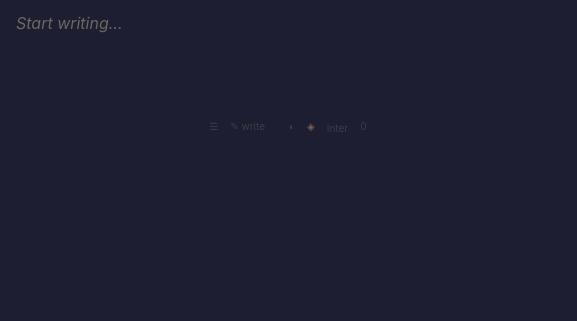
Test case: Page › shows conversation messages when present
What coordinates should you click on to do the following:
click the button with test id "mode-toggle"
I would click on:
 (248, 126)
Its box is [230, 118, 265, 134].
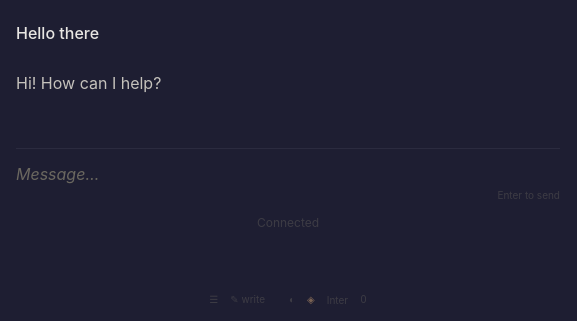
Check: the text "Hello there" is shown, box [16, 23, 99, 43]
Check: the text "Hi! How can I help?" is shown, box [16, 73, 161, 93]
